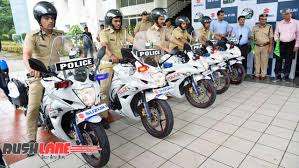helmet: (28, 4, 68, 37), (95, 4, 125, 33), (144, 2, 169, 28), (173, 5, 192, 34), (201, 10, 214, 32)
